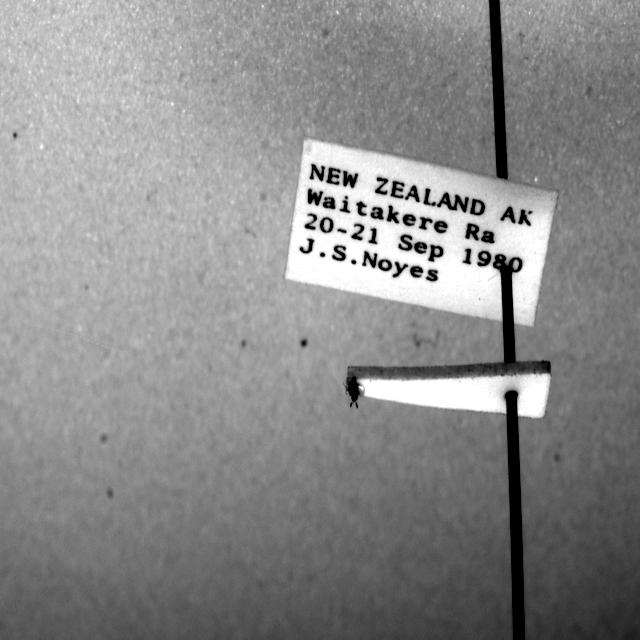typed_label: (285, 139, 558, 326)
